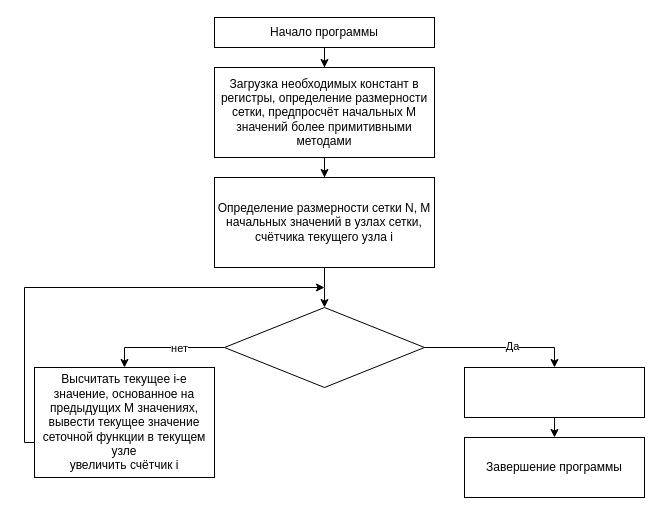
The diagram is 662 pixels wide and 515 high, and some of its shapes have lost their labels. The shapes that lost their labels are listed below. From the top down, each one's centre as x and y in pixels, then its label:
[324,347]: i < N
[554,392]: Вывести сообщение об успешной отработке явного метода Адамса
